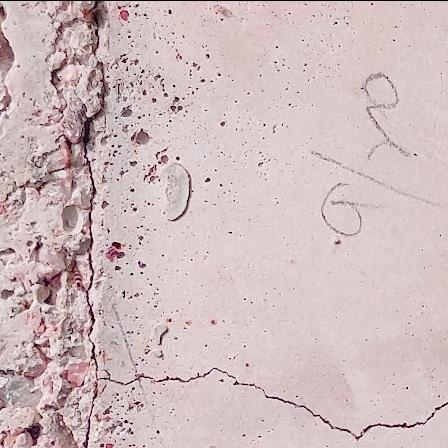crack: (94, 347, 448, 448), (82, 145, 99, 380), (74, 377, 110, 448)
spalling: (28, 0, 128, 177), (0, 308, 90, 448), (5, 264, 68, 321), (0, 1, 19, 120)
